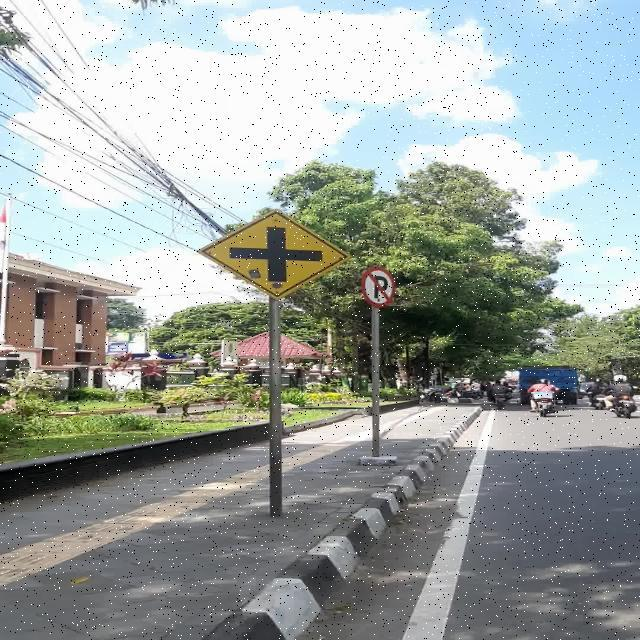Persimpangan 4: (197, 209, 350, 300)
